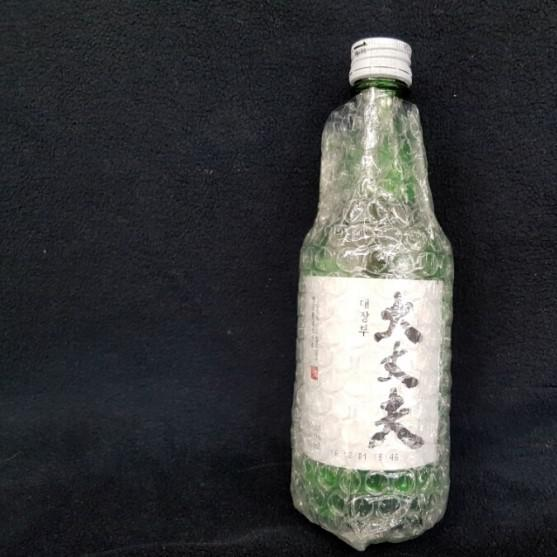soju: (285, 30, 453, 538)
